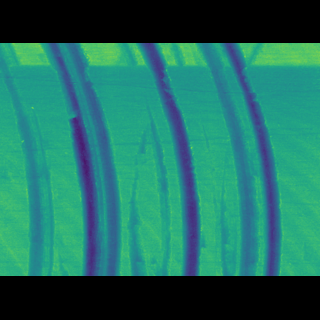Loch: (192, 73, 284, 244), (35, 74, 124, 244), (133, 73, 205, 244), (0, 75, 57, 245), (124, 122, 173, 245)
